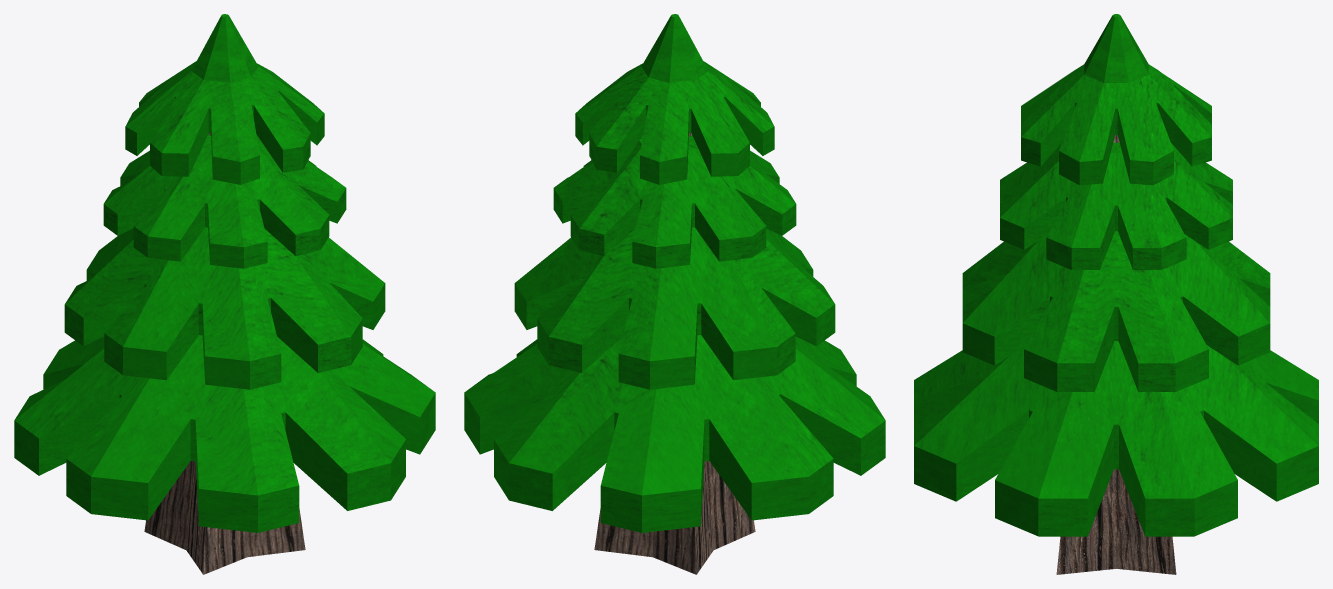
Rendered from treegood.fbx.
The picture shows the model from 3 angles, left to right: view 1: azimuth 30°, elevation 25°; view 2: azimuth 150°, elevation 25°; view 3: azimuth 270°, elevation 25°; orthographic projection.
Visible parts, largest first — view 1: TREE; view 2: TREE; view 3: TREE.
Boxes of the visible parts, bbox=[...] form: TREE: bbox=[14, 14, 435, 574]; TREE: bbox=[464, 14, 885, 574]; TREE: bbox=[914, 14, 1318, 574].
Bounding box in the file's own units: 200 × 291 × 200.
